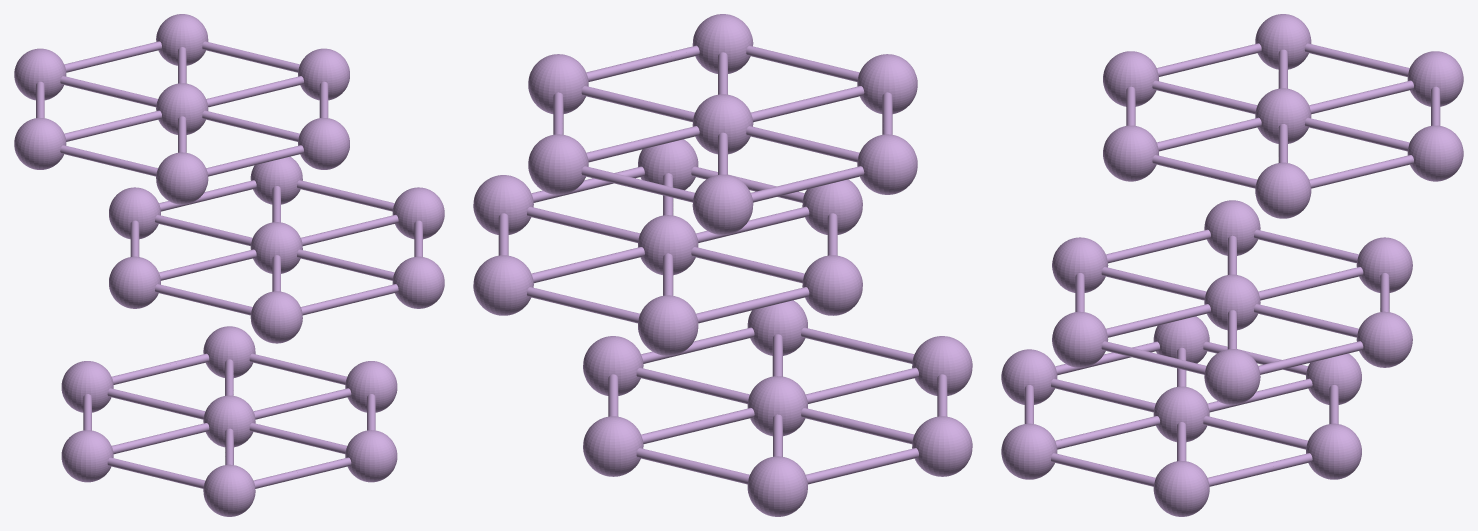
The model's file is arsenic.dae.
3 views of the same model, side by side, from view 1: azimuth 30°, elevation 25°; view 2: azimuth 150°, elevation 25°; view 3: azimuth 270°, elevation 25° (orthographic). The views are drawn at different scales.
Parts seen in each view (by area): view 1: Ball_Arsenic_010, Ball_Arsenic_016, Ball_Arsenic_007, Ball_Arsenic_008, Ball_Arsenic_012, Ball_Arsenic_009, Ball_Arsenic_018, Ball_Arsenic_011, Ball_Arsenic_017, Ball_Arsenic_019, Ball_Arsenic_014, Ball_Arsenic_002 (+9 smaller); view 2: Ball_Arsenic_002, Ball_Arsenic_013, Ball_Arsenic_019, Ball_Arsenic_008, Ball_Arsenic_015, Ball_Arsenic_011, Ball_Arsenic_017, Ball_Arsenic_004, Ball_Arsenic_021, Ball_Arsenic_020, Ball_Arsenic_003, Ball_Arsenic_016 (+9 smaller); view 3: Ball_Arsenic_003, Ball_Arsenic_020, Ball_Arsenic_014, Ball_Arsenic_021, Ball_Arsenic_018, Ball_Arsenic_004, Ball_Arsenic_009, Ball_Arsenic_015, Ball_Arsenic_012, Ball_Arsenic_016, Ball_Arsenic_010, Ball_Arsenic_013 (+9 smaller).
Part boxes in pixels (x1,y1,x2,y2): Ball_Arsenic_010: (250, 291, 302, 343); Ball_Arsenic_016: (156, 152, 208, 204); Ball_Arsenic_007: (203, 464, 255, 516); Ball_Arsenic_008: (61, 430, 113, 482); Ball_Arsenic_012: (392, 256, 444, 308); Ball_Arsenic_009: (345, 430, 397, 482); Ball_Arsenic_018: (298, 118, 349, 169); Ball_Arsenic_011: (109, 256, 160, 308); Ball_Arsenic_017: (14, 118, 66, 169); Ball_Arsenic_019: (14, 48, 66, 100); Ball_Arsenic_014: (392, 187, 444, 239); Ball_Arsenic_002: (61, 361, 113, 412); Ball_Arsenic_002: (747, 456, 807, 516); Ball_Arsenic_013: (638, 295, 698, 355); Ball_Arsenic_019: (692, 174, 753, 234); Ball_Arsenic_008: (912, 416, 972, 476); Ball_Arsenic_015: (473, 255, 533, 315); Ball_Arsenic_011: (802, 255, 862, 315); Ball_Arsenic_017: (857, 134, 917, 194); Ball_Arsenic_004: (583, 416, 643, 476); Ball_Arsenic_021: (528, 134, 588, 194); Ball_Arsenic_020: (528, 54, 588, 113); Ball_Arsenic_003: (583, 336, 643, 395); Ball_Arsenic_016: (857, 54, 917, 113); Ball_Arsenic_003: (1153, 461, 1209, 516); Ball_Arsenic_020: (1255, 162, 1311, 218); Ball_Arsenic_014: (1204, 349, 1260, 404); Ball_Arsenic_021: (1407, 125, 1463, 181); Ball_Arsenic_018: (1103, 125, 1158, 181); Ball_Arsenic_004: (1306, 423, 1361, 479); Ball_Arsenic_009: (1001, 423, 1057, 479); Ball_Arsenic_015: (1356, 311, 1412, 367); Ball_Arsenic_012: (1052, 311, 1108, 367); Ball_Arsenic_016: (1103, 51, 1158, 106); Ball_Arsenic_010: (1052, 237, 1108, 292); Ball_Arsenic_013: (1356, 237, 1412, 292).
Bounding box in the file's own units: 10.6 × 9.88 × 8.23.
